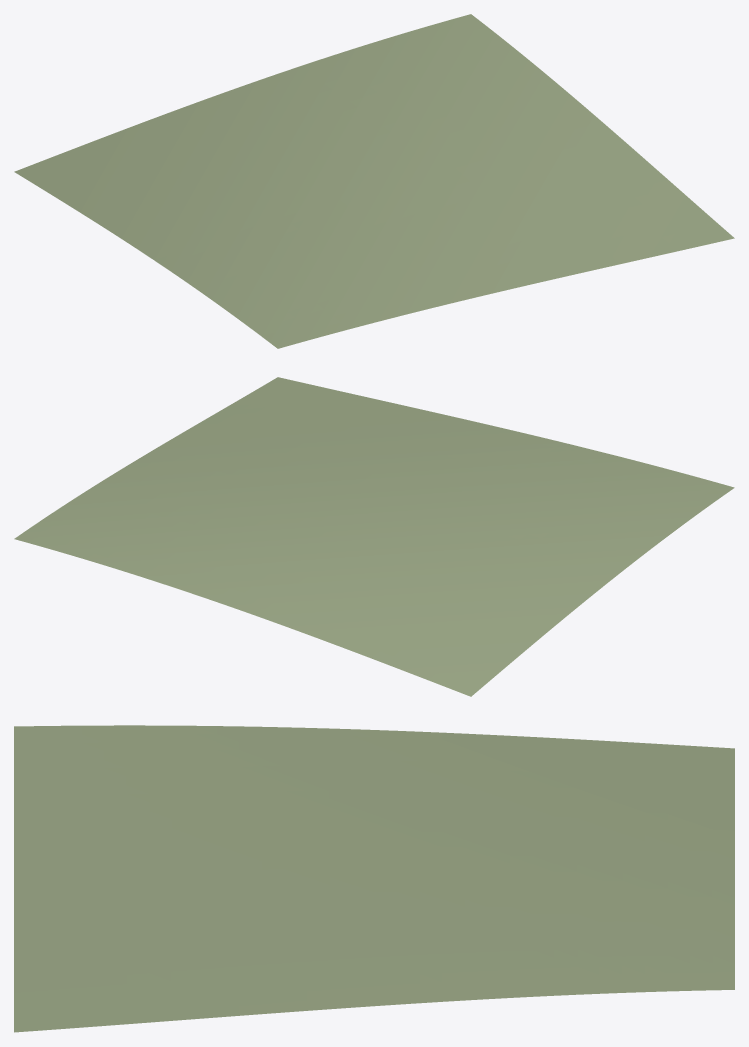
The model's file is alpine-0-0.glb.
3 views of the same model, one above another, from view 1: azimuth 30°, elevation 25°; view 2: azimuth 150°, elevation 25°; view 3: azimuth 270°, elevation 25° (orthographic). The views are drawn at different scales.
Visible parts, largest first — view 1: alpine-0-0; view 2: alpine-0-0; view 3: alpine-0-0.
Part boxes in pixels (box(x1,y1,x2,y2)): alpine-0-0: box(14, 14, 734, 348); alpine-0-0: box(14, 377, 734, 696); alpine-0-0: box(14, 725, 734, 1032).
Size of the model in its own units: 256 by 24.78 by 256.
